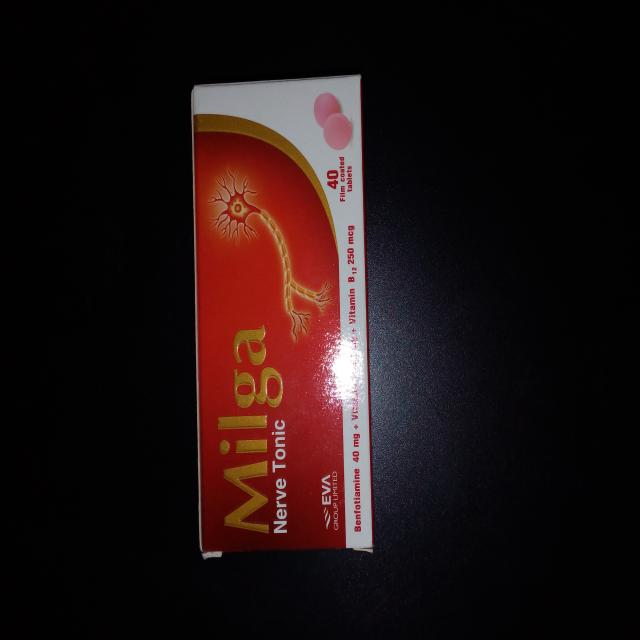Medicine: (180, 73, 378, 557)
